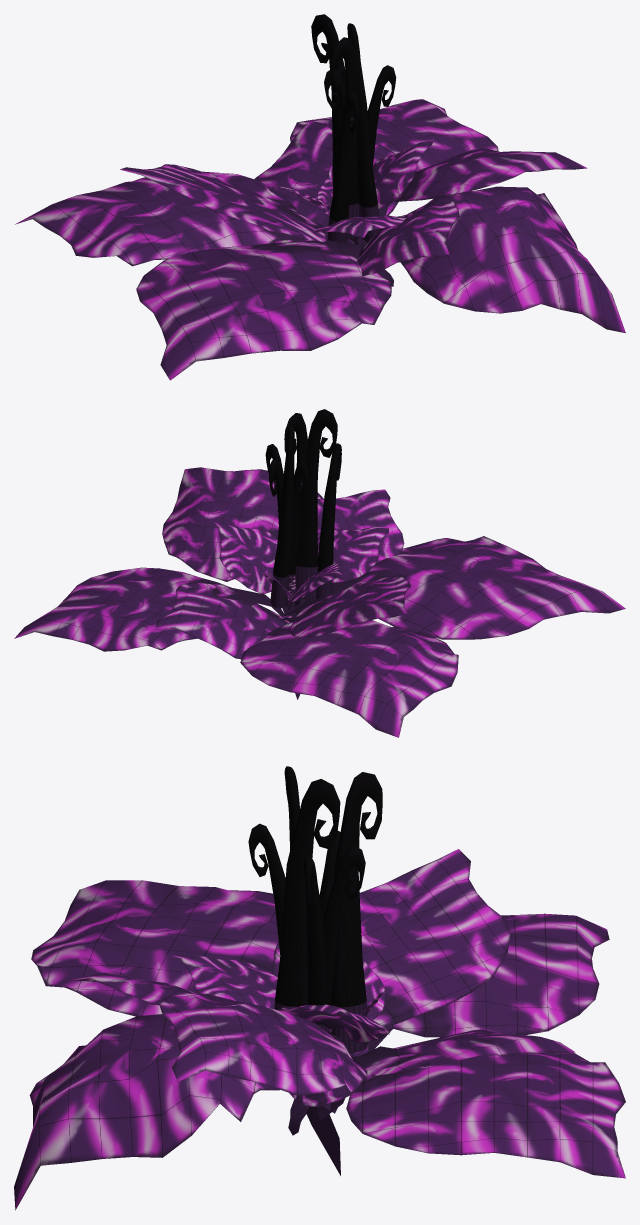
The model's file is plant_3.fbx.
3 views of the same model, one above another, from view 1: azimuth 30°, elevation 25°; view 2: azimuth 150°, elevation 25°; view 3: azimuth 270°, elevation 25° (orthographic). The views are drawn at different scales.
Parts seen in each view (by area): view 1: pasted__pasted__pasted__pasted__pasted__leaf, pCylinder1.001, pCylinder1.006, pCylinder1.005, pCylinder1.004, pCylinder1.003, pCylinder1.002; view 2: pasted__pasted__pasted__pasted__pasted__leaf, pCylinder1.005, pCylinder1.004, pCylinder1.006, pCylinder1.002, pCylinder1.001, pCylinder1; view 3: pasted__pasted__pasted__pasted__pasted__leaf, pCylinder1.001, pCylinder1.004, pCylinder1.003, pCylinder1, pCylinder1.006, pCylinder1.002, pCylinder1.005.
Part boxes in pixels (<box>): pasted__pasted__pasted__pasted__pasted__leaf: <box>15,99,625,380</box>; pCylinder1.001: <box>347,23,380,241</box>; pCylinder1.006: <box>327,92,358,242</box>; pCylinder1.005: <box>330,37,359,238</box>; pCylinder1.004: <box>311,14,345,190</box>; pCylinder1.003: <box>367,65,396,167</box>; pCylinder1.002: <box>324,69,345,116</box>; pasted__pasted__pasted__pasted__pasted__leaf: <box>14,467,625,737</box>; pCylinder1.005: <box>295,409,337,599</box>; pCylinder1.004: <box>270,426,294,608</box>; pCylinder1.006: <box>316,443,341,599</box>; pCylinder1.002: <box>290,460,307,574</box>; pCylinder1.001: <box>284,413,307,489</box>; pCylinder1: <box>269,459,290,575</box>; pasted__pasted__pasted__pasted__pasted__leaf: <box>14,849,625,1210</box>; pCylinder1.001: <box>274,779,340,1009</box>; pCylinder1.004: <box>331,772,382,1053</box>; pCylinder1.003: <box>303,857,327,1005</box>; pCylinder1: <box>323,845,365,1005</box>; pCylinder1.006: <box>248,823,285,954</box>; pCylinder1.002: <box>318,830,340,1032</box>; pCylinder1.005: <box>284,766,299,850</box>.
Bounding box in the file's own units: 1117 × 707 × 971.
8 materials, 8 textured.
